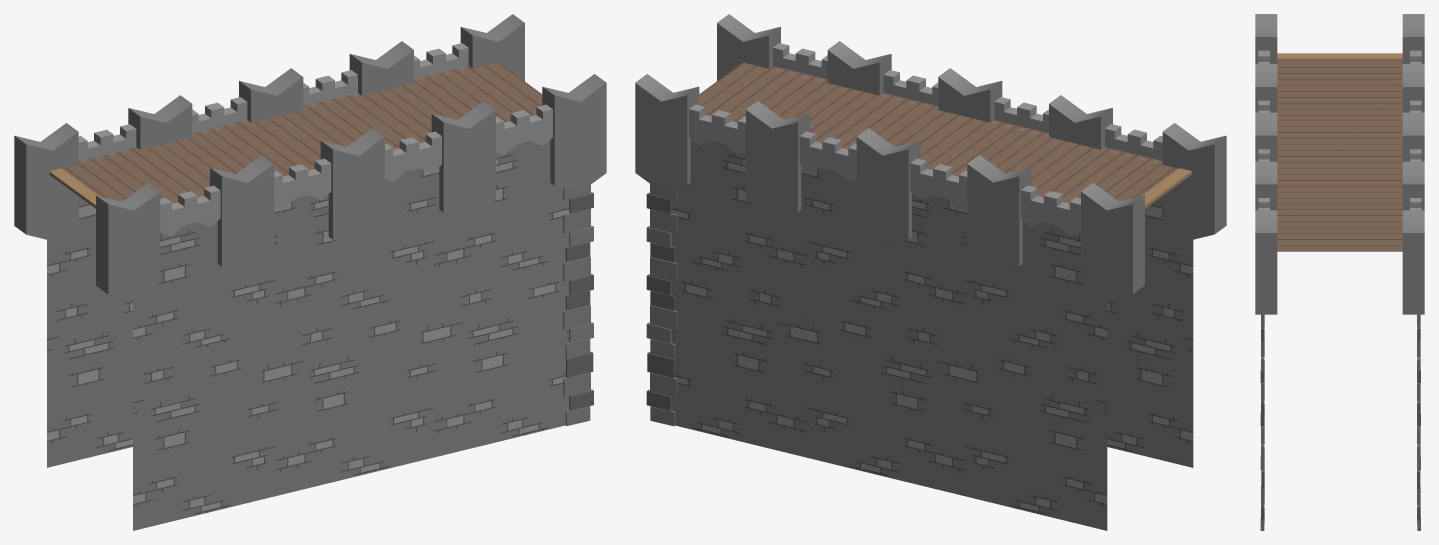
The model's file is wall3.gltf.
3 views of the same model, side by side, from view 1: azimuth 30°, elevation 25°; view 2: azimuth 150°, elevation 25°; view 3: azimuth 270°, elevation 25° (orthographic). The views are drawn at different scales.
Parts seen in each view (by area): view 1: wall3; view 2: wall3; view 3: wall3.
Boxes of the visible parts, left/top/right/bottom form: wall3: left=14, top=14, right=606, bottom=530; wall3: left=635, top=14, right=1226, bottom=530; wall3: left=1255, top=14, right=1424, bottom=530.
Size of the model in its own units: 20.66 by 13.35 by 6.74.
Materials: 7 (2 with a texture image).
